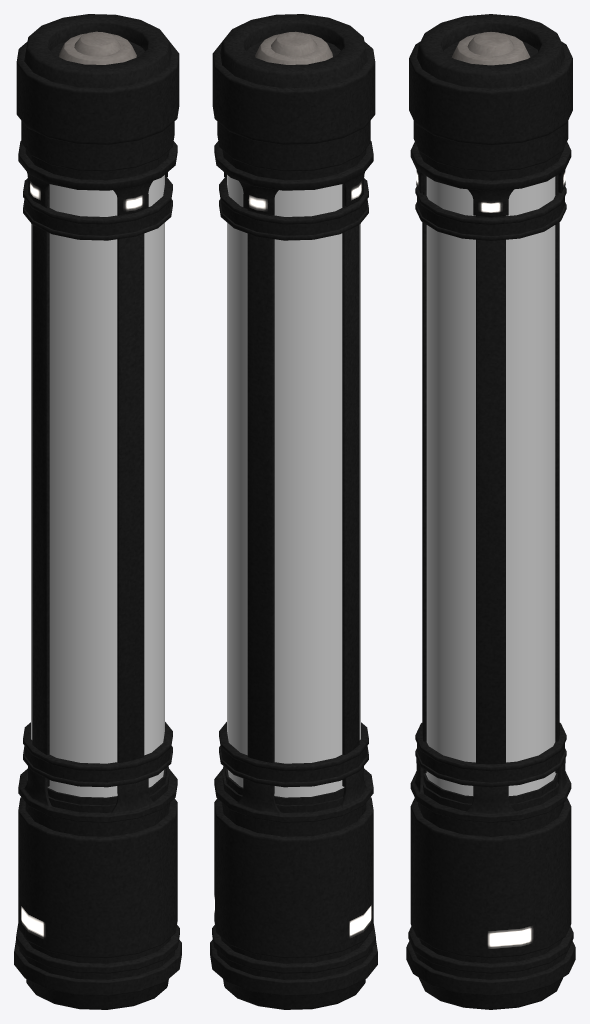
The model's file is AetherCell.fbx.
3 renders of one model, left to right at view 1: azimuth 30°, elevation 25°; view 2: azimuth 150°, elevation 25°; view 3: azimuth 270°, elevation 25°, orthographic.
Parts seen in each view (by area): view 1: AetherCell; view 2: AetherCell; view 3: AetherCell.
Part boxes in pixels (x1=…): AetherCell: x1=14, y1=14, x2=181, y2=1009; AetherCell: x1=210, y1=14, x2=377, y2=1009; AetherCell: x1=406, y1=14, x2=575, y2=1009.
Bounding box in the file's own units: 0.0533 × 0.3271 × 0.0533.
